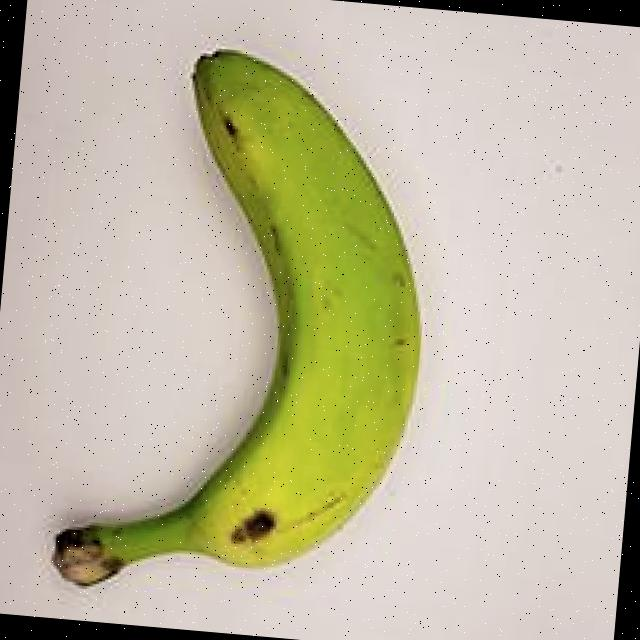Unripe: (32, 29, 460, 622)
